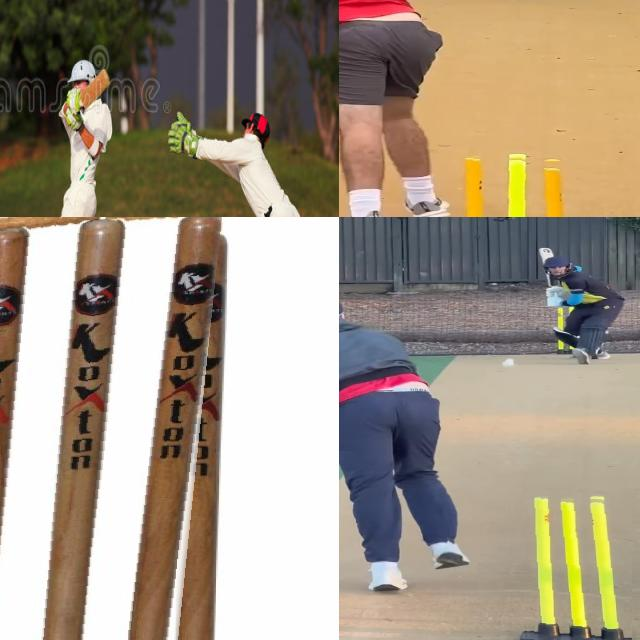Cricket ball: (502, 357, 520, 369)
Stumps: (0, 217, 225, 640), (521, 493, 632, 640), (442, 152, 580, 217)
